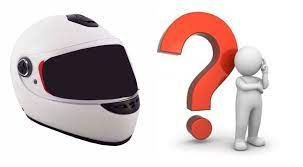helmets: (4, 12, 154, 150)
